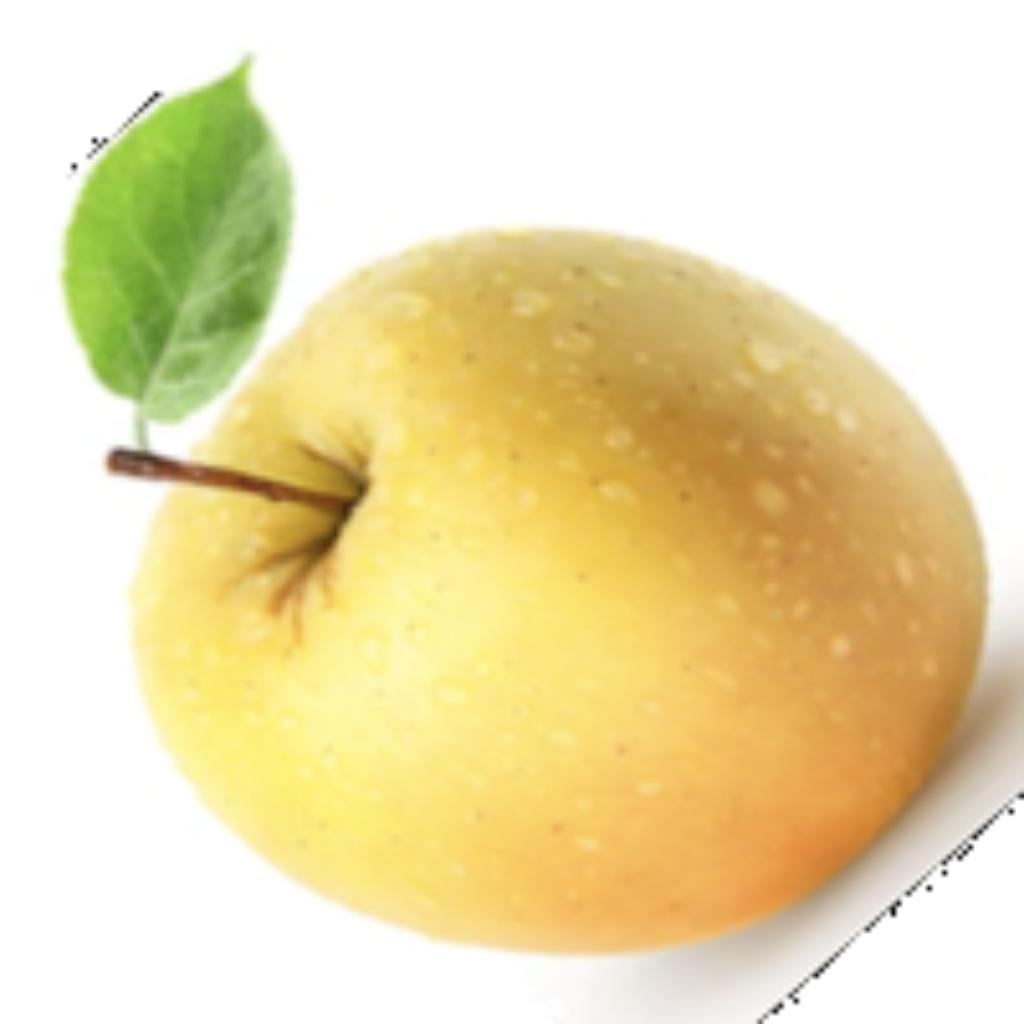apple: (51, 53, 1019, 1019)
